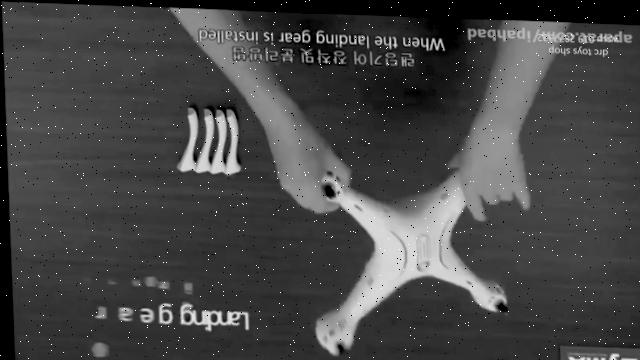drone: (305, 163, 508, 360)
